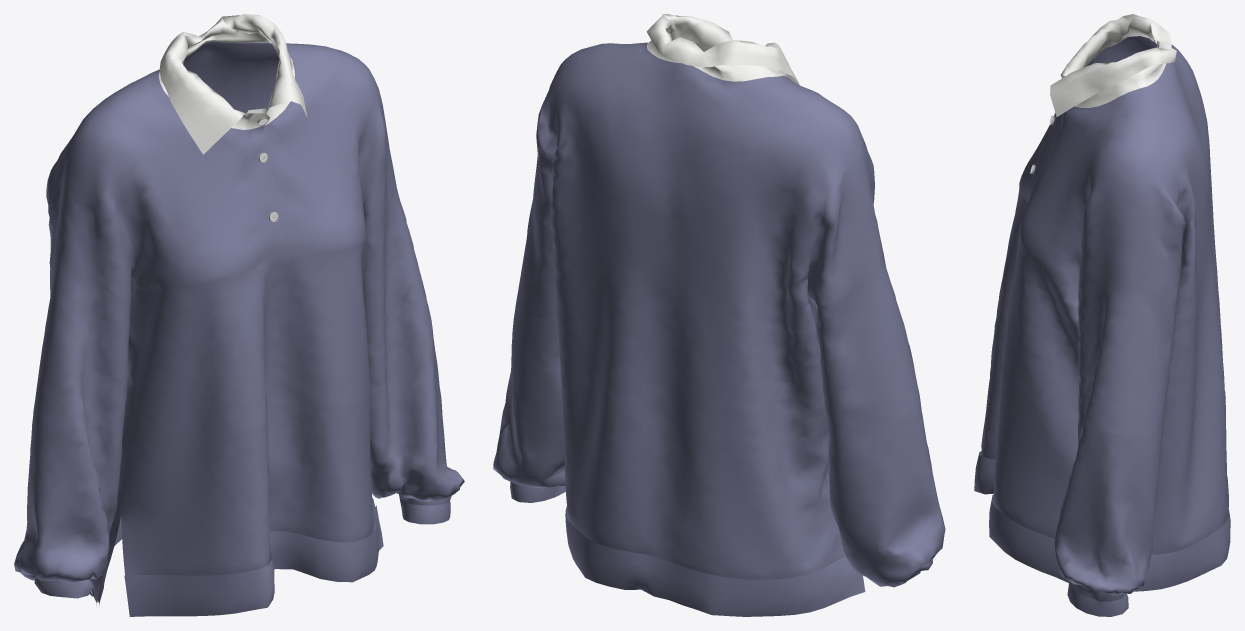
3 views of the same model, side by side, from view 1: azimuth 30°, elevation 25°; view 2: azimuth 150°, elevation 25°; view 3: azimuth 270°, elevation 25° (orthographic). The views are drawn at different scales.
Visible parts, largest first — view 1: Pattern2D_3346071, Pattern2D_3477746, Pattern2D_3483599, Pattern2D_3445324, Pattern2D_3442182, Pattern2D_614027, Pattern2D_420041, Pattern2D_3424674, Pattern2D_3459562, Pattern2D_420022, Pattern2D_420052, Pattern2D_420074 (+19 smaller); view 2: Pattern2D_3459562, Pattern2D_3462828, Pattern2D_3445324, Pattern2D_614552 (×2), Pattern2D_430427, Pattern2D_501064, Pattern2D_3442182, Pattern2D_430405, Pattern2D_501049, Pattern2D_3424674, Pattern2D_430416, Pattern2D_363371 (+14 smaller); view 3: Pattern2D_3442182, Pattern2D_3459562, Pattern2D_3483599, Pattern2D_3346071, Pattern2D_3420210, Pattern2D_3462828, Pattern2D_614027, Pattern2D_533716, Pattern2D_614552, Pattern2D_325179, Pattern2D_365664, Pattern2D_340886 (+18 smaller).
Part boxes in pixels (x1,y1,x2,y2): Pattern2D_3346071: (121, 390, 373, 574); Pattern2D_3477746: (80, 83, 265, 288); Pattern2D_3483599: (267, 51, 382, 253); Pattern2D_3445324: (14, 419, 122, 582); Pattern2D_3442182: (369, 329, 464, 501); Pattern2D_614027: (124, 505, 383, 616); Pattern2D_420041: (128, 268, 365, 356); Pattern2D_3424674: (46, 160, 131, 295); Pattern2D_3459562: (54, 41, 373, 165); Pattern2D_420022: (130, 240, 367, 320); Pattern2D_420052: (127, 311, 367, 386); Pattern2D_420074: (122, 363, 370, 440); Pattern2D_3459562: (538, 42, 863, 310); Pattern2D_3462828: (560, 378, 844, 577); Pattern2D_3445324: (829, 401, 945, 587); Pattern2D_614552 (×2): (565, 506, 865, 616); Pattern2D_430427: (558, 346, 827, 444); Pattern2D_501064: (554, 262, 820, 363); Pattern2D_3442182: (493, 322, 565, 488); Pattern2D_430405: (555, 292, 822, 389); Pattern2D_501049: (553, 239, 816, 336); Pattern2D_3424674: (807, 154, 886, 307); Pattern2D_430416: (557, 321, 824, 412); Pattern2D_363371: (822, 342, 914, 413); Pattern2D_3442182: (1054, 418, 1162, 595); Pattern2D_3459562: (1119, 36, 1213, 296); Pattern2D_3483599: (1019, 92, 1128, 278); Pattern2D_3346071: (981, 327, 1078, 537); Pattern2D_3420210: (1078, 184, 1185, 301); Pattern2D_3462828: (1152, 355, 1227, 553); Pattern2D_614027: (974, 451, 1069, 582); Pattern2D_533716: (1050, 40, 1176, 116); Pattern2D_614552: (1134, 475, 1230, 591); Pattern2D_325179: (1077, 288, 1176, 332); Pattern2D_365664: (1077, 364, 1169, 411); Pattern2D_340886: (1078, 318, 1174, 360).
Size of the model in its own units: 57.7 by 69.03 by 31.62.
